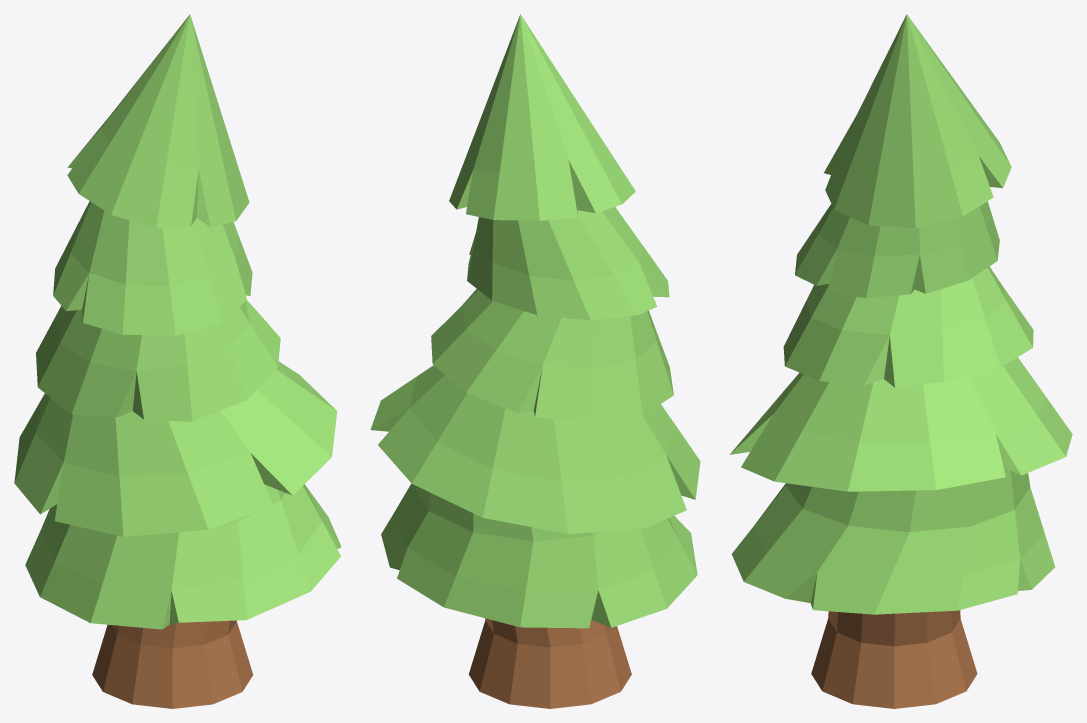
The model's file is Tree1.1.fbx.
The picture shows the model from 3 angles, left to right: view 1: azimuth 30°, elevation 25°; view 2: azimuth 150°, elevation 25°; view 3: azimuth 270°, elevation 25°; orthographic projection. The views are drawn at different scales.
Visible parts, largest first — view 1: Tree1.1; view 2: Tree1.1; view 3: Tree1.1.
Boxes of the visible parts, box(x1,y1,x2,y2) form: Tree1.1: box(14, 14, 341, 708); Tree1.1: box(370, 14, 700, 708); Tree1.1: box(729, 14, 1072, 708).
Size of the model in its own units: 402 by 891 by 413.
